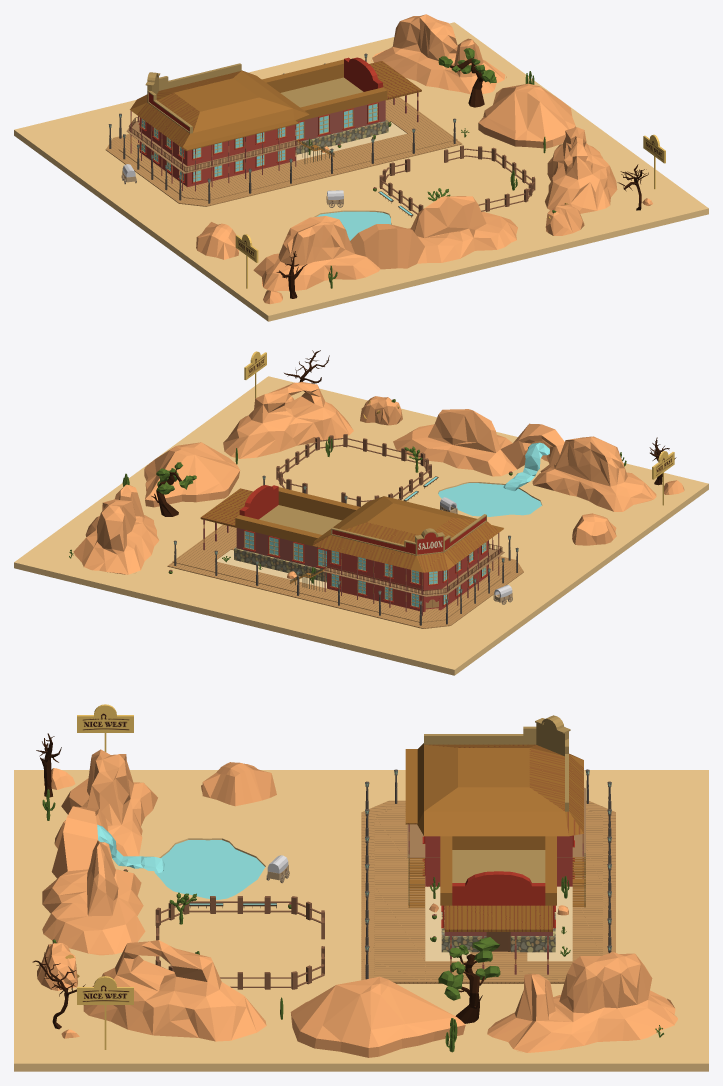
The model's file is D8_central_park.fbx.
3 views of the same model, one above another, from view 1: azimuth 30°, elevation 25°; view 2: azimuth 150°, elevation 25°; view 3: azimuth 270°, elevation 25° (orthographic). The views are drawn at different scales.
Visible parts, largest first — view 1: Plane.2023, Tree_Desert_020.008; view 2: Plane.2023, Tree_Desert_020.008; view 3: Plane.2023, Tree_Desert_020.008.
Part boxes in pixels (x1,y1,x2,y2): Plane.2023: (14, 14, 708, 321); Tree_Desert_020.008: (276, 48, 648, 298); Plane.2023: (14, 351, 708, 675); Tree_Desert_020.008: (69, 350, 676, 583); Plane.2023: (14, 704, 708, 1071); Tree_Desert_020.008: (32, 733, 663, 1052).
Bounding box in the file's own units: 12400 × 2259 × 12400.
Materials: 15 (11 with a texture image).
